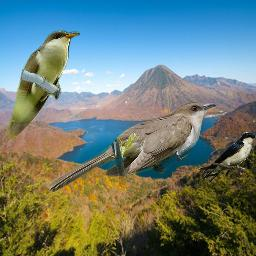Cuckoo: (46, 101, 216, 192), (5, 30, 80, 140)
Swallow: (197, 132, 256, 183)
